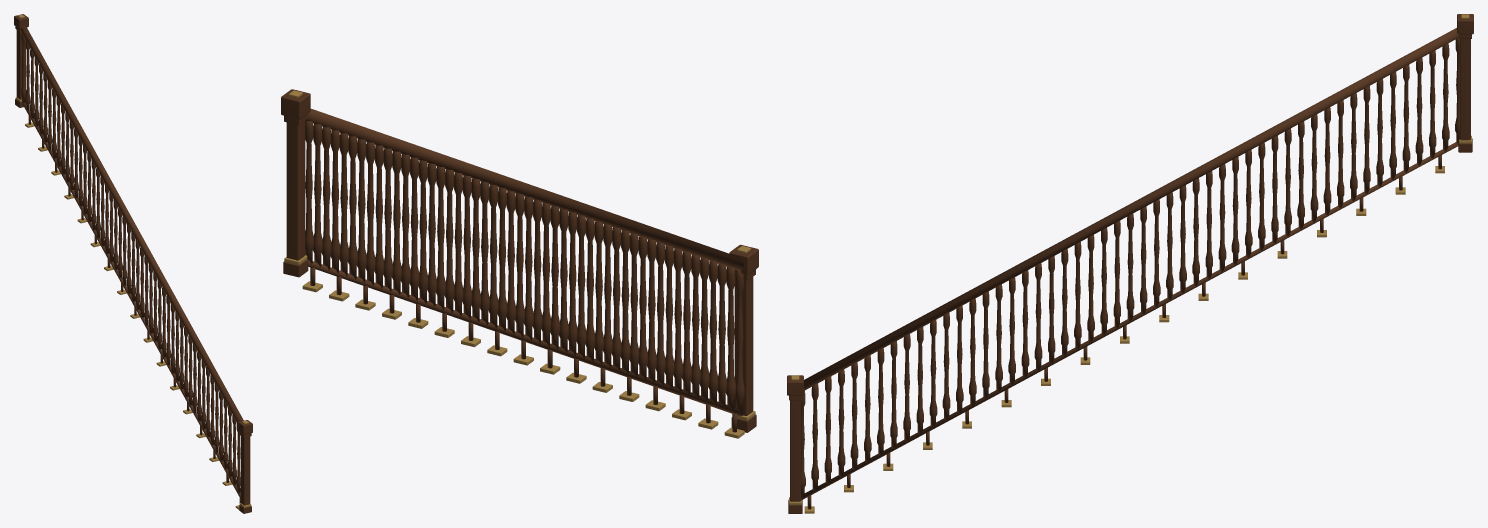
Rendered from rpg-mansion-stair-guard-eighteen-riser-01.glb.
The picture shows the model from 3 angles, left to right: view 1: azimuth 30°, elevation 25°; view 2: azimuth 150°, elevation 25°; view 3: azimuth 270°, elevation 25°; orthographic projection. The views are drawn at different scales.
Visible parts, largest first — view 1: rpg-mansion-stair-guard-eighteen-riser-01; view 2: rpg-mansion-stair-guard-eighteen-riser-01; view 3: rpg-mansion-stair-guard-eighteen-riser-01.
Part boxes in pixels (x1=…): rpg-mansion-stair-guard-eighteen-riser-01: x1=14, y1=14, x2=252, y2=513; rpg-mansion-stair-guard-eighteen-riser-01: x1=281, y1=89, x2=758, y2=438; rpg-mansion-stair-guard-eighteen-riser-01: x1=787, y1=14, x2=1473, y2=513.
Bounding box in the file's own units: 0.12 × 3.88 × 4.88.
